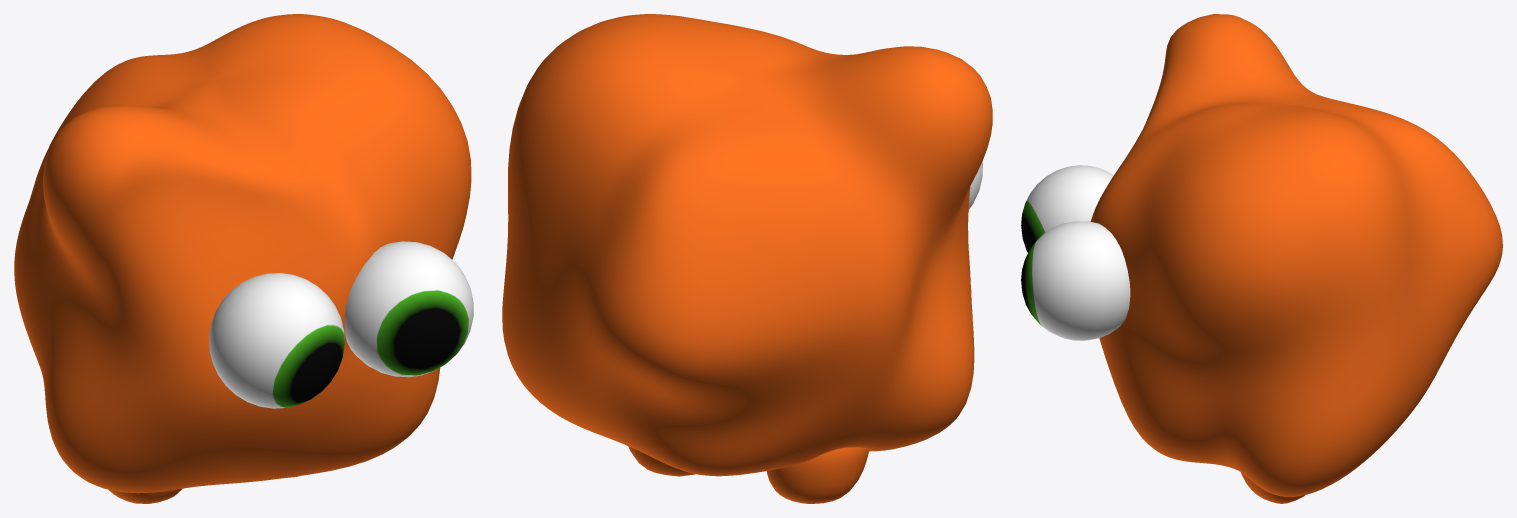
Rendered from GLOBBYFIG.gltf.
3 views of the same model, side by side, from view 1: azimuth 30°, elevation 25°; view 2: azimuth 150°, elevation 25°; view 3: azimuth 270°, elevation 25° (orthographic). The views are drawn at different scales.
Parts seen in each view (by area): view 1: L EYE.005; view 2: L EYE.005; view 3: L EYE.005.
Part boxes in pixels (x1=…): L EYE.005: x1=14, y1=14, x2=473, y2=503; L EYE.005: x1=502, y1=14, x2=992, y2=503; L EYE.005: x1=1021, y1=14, x2=1502, y2=503.
Bounding box in the file's own units: 4.94 × 4.87 × 5.53.
2 materials, 2 textured.
